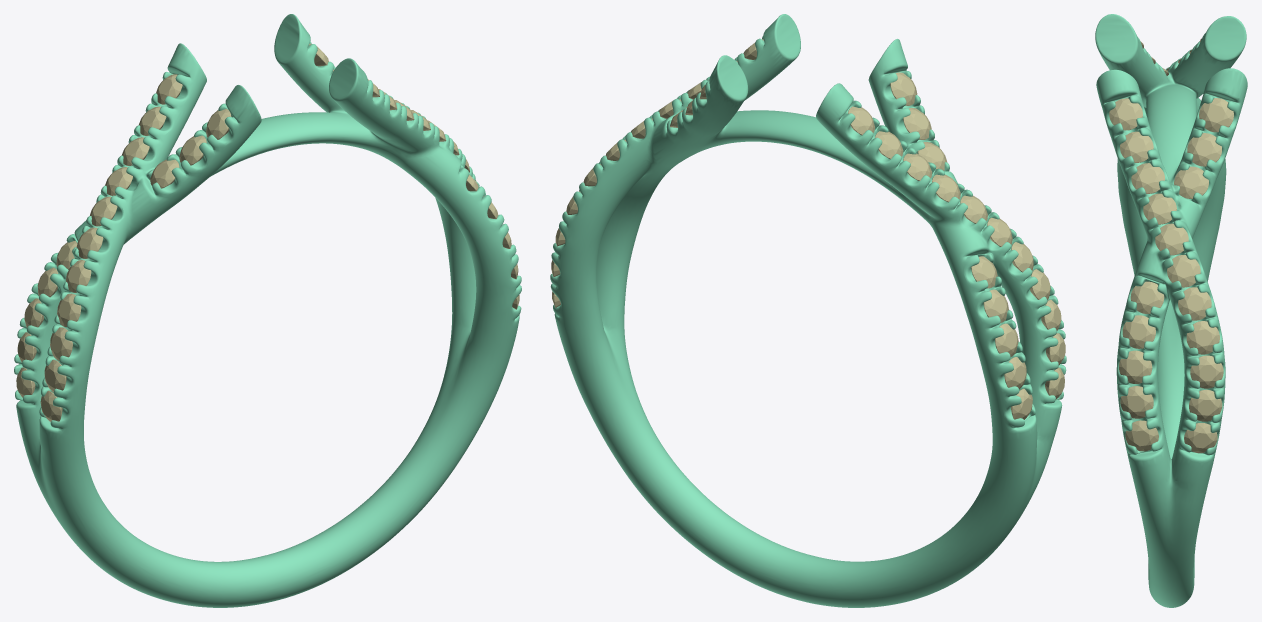
The picture shows the model from 3 angles, left to right: view 1: azimuth 30°, elevation 25°; view 2: azimuth 150°, elevation 25°; view 3: azimuth 270°, elevation 25°; orthographic projection.
Parts seen in each view (by area): view 1: Metal02; view 2: Metal02; view 3: Metal02, Diamond_Gem.024, Diamond_Gem.025, Diamond_Gem.026, Diamond_Gem.033, Diamond_Gem.034, Diamond_Gem.022, Diamond_Gem.035, Diamond_Gem.021, Diamond_Gem.032, Diamond_Gem.027, Diamond_Gem.020 (+8 smaller).
Boxes of the visible parts, box(x1,y1,x2,y2) form: Metal02: box(14, 14, 521, 607); Metal02: box(550, 14, 1066, 607); Metal02: box(1095, 14, 1247, 607); Diamond_Gem.024: box(1199, 98, 1233, 132); Diamond_Gem.025: box(1187, 133, 1221, 166); Diamond_Gem.026: box(1174, 166, 1208, 198); Diamond_Gem.033: box(1178, 287, 1211, 320); Diamond_Gem.034: box(1186, 321, 1219, 354); Diamond_Gem.022: box(1122, 315, 1155, 348); Diamond_Gem.035: box(1190, 355, 1223, 388); Diamond_Gem.021: box(1119, 350, 1152, 383); Diamond_Gem.032: box(1167, 255, 1200, 287); Diamond_Gem.027: box(1109, 98, 1142, 130); Diamond_Gem.020: box(1120, 386, 1153, 418).
Size of the model in its own units: 20.96 by 23.11 by 5.89.
